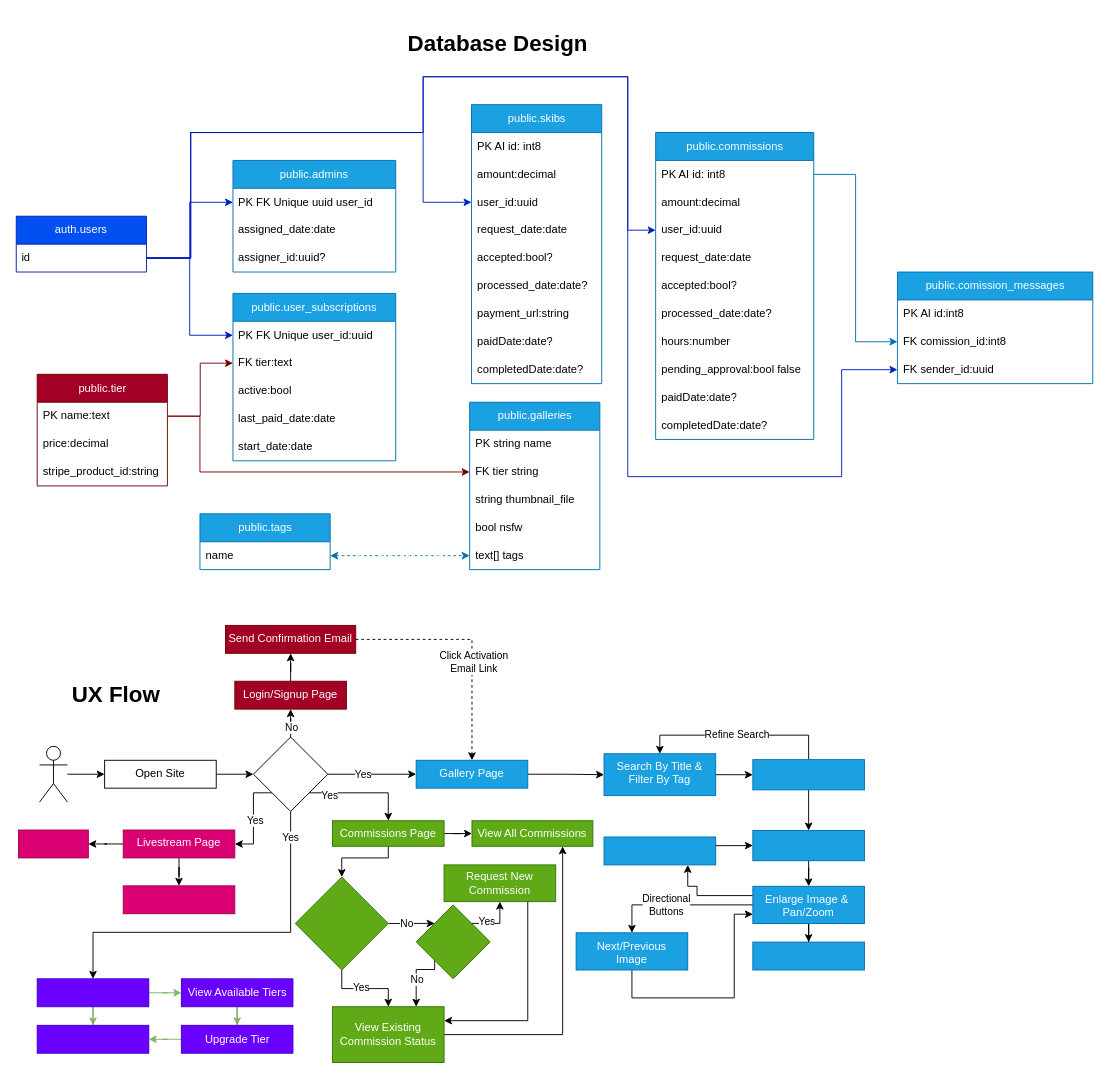
The diagram is 1109 pixels wide and 1079 high, and some of its shapes have lost their labels. The shapes that lost their labels are listed below. From the top down, each one's centre as x and y in pixels, then its label:
At [53,773]: "Actor".
At [290,773]: "Logged In".
At [808,774]: "Browse Galleries".
At [53,843]: "Chat".
At [659,850]: "Close Image".
At [808,845]: "Open Gallery".
At [178,899]: "Watch Stream".
At [341,923]: "Has Existing Commission".
At [452,941]: "Requests Open".
At [808,955]: "Download Image".
At [92,992]: "Subscriptions Page".
At [92,1038]: "View Current Tier".
